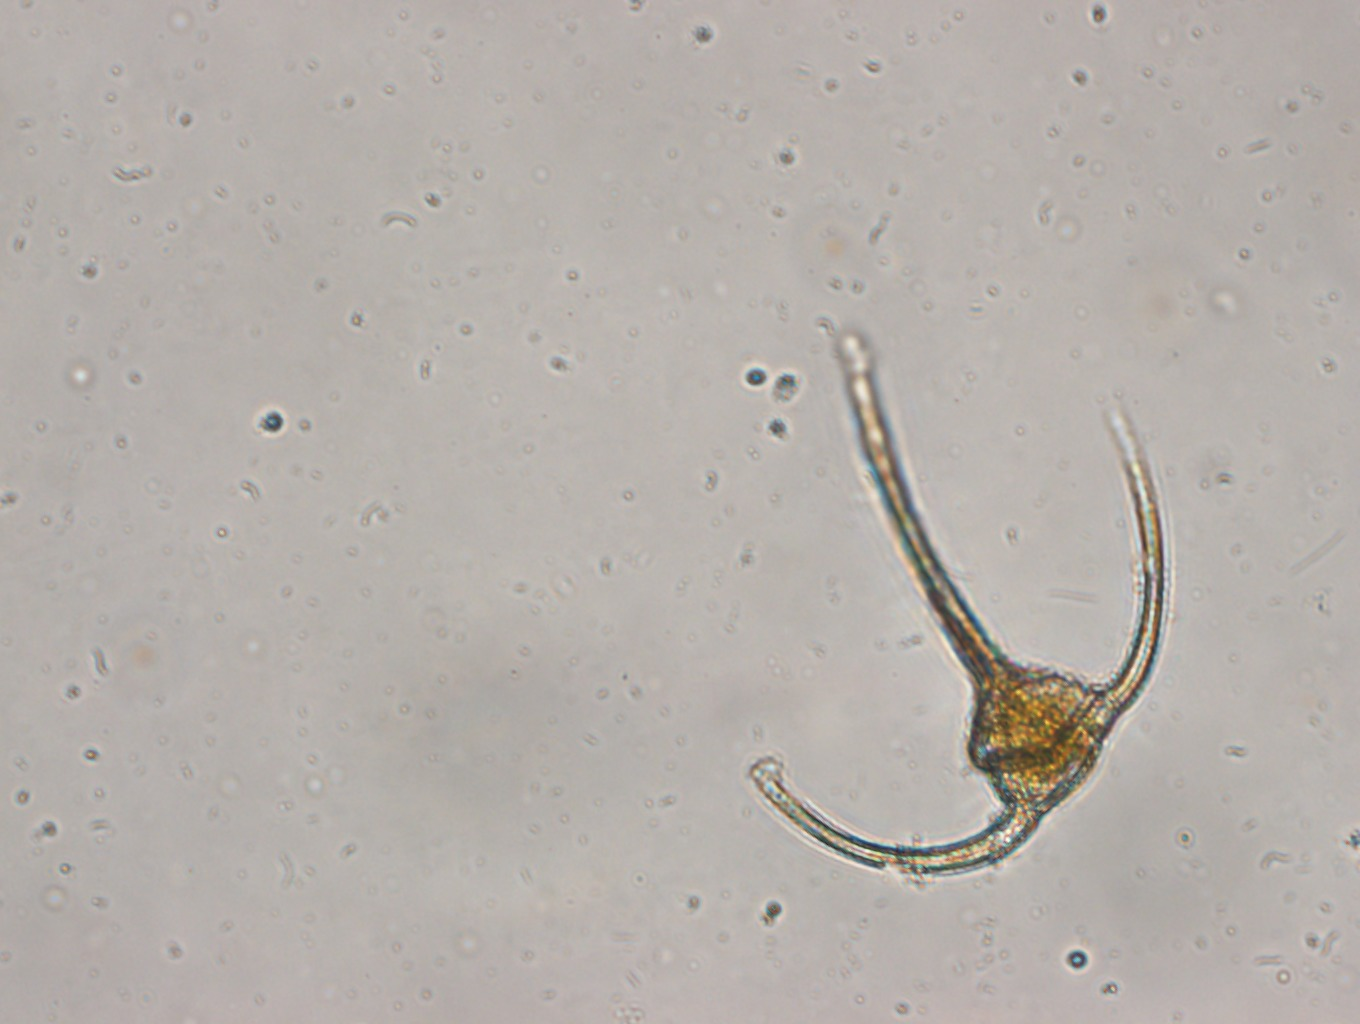ceratium trichoceros: (742, 326, 1178, 885)
